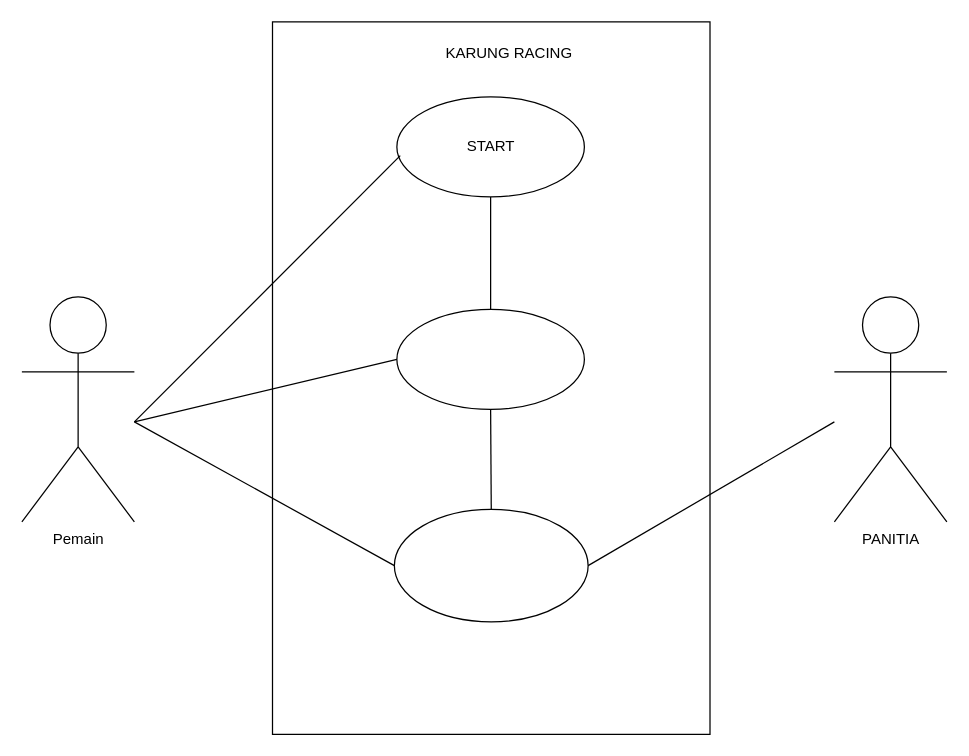
Some shapes in this 969 by 756 pixel diagram are drawn without their labels. The centre of each missing label's shape, as x and y in pixels:
"FINISH" goes at (490,565).
"LONCAT" goes at (490,358).
